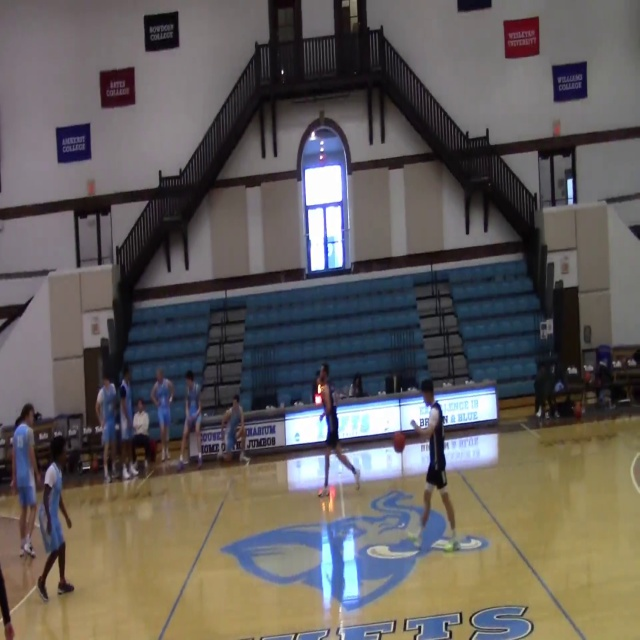Basketball: (393, 432, 405, 452)
